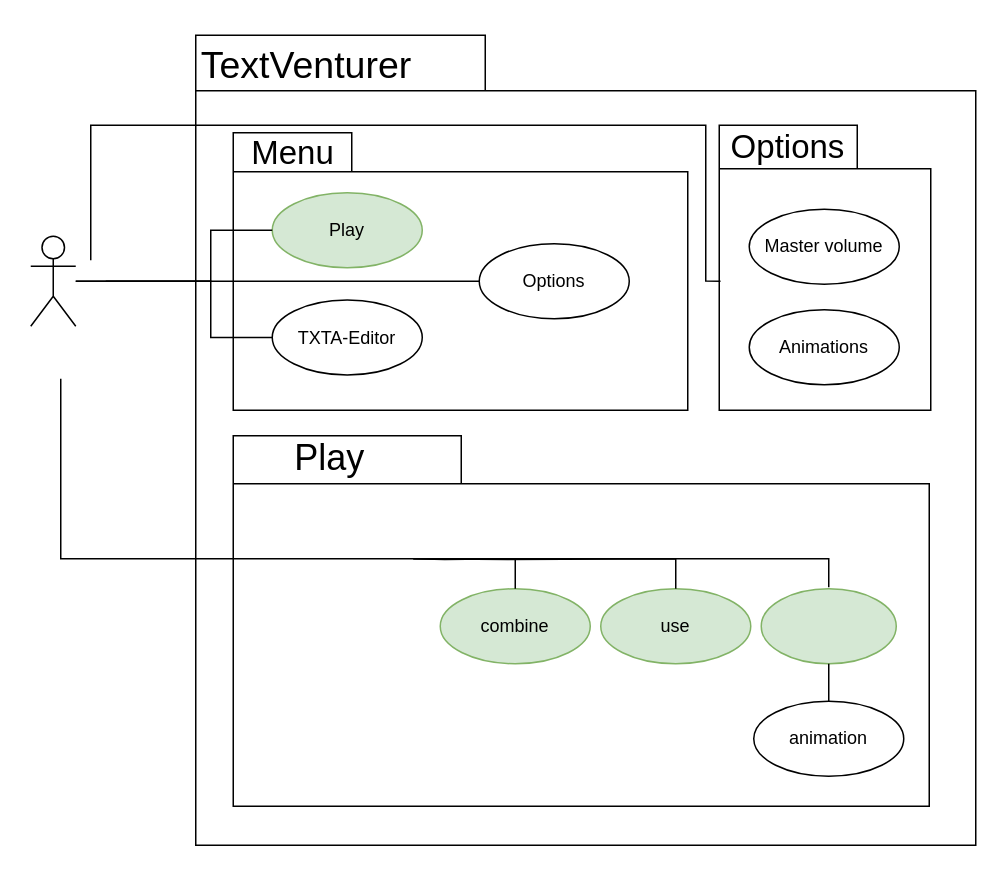
This 1002x872 diagram has some shape labels left out. Each missing label, with the centre of its shape:
Gamer: the point at 52,280
inspect: the point at 828,625
